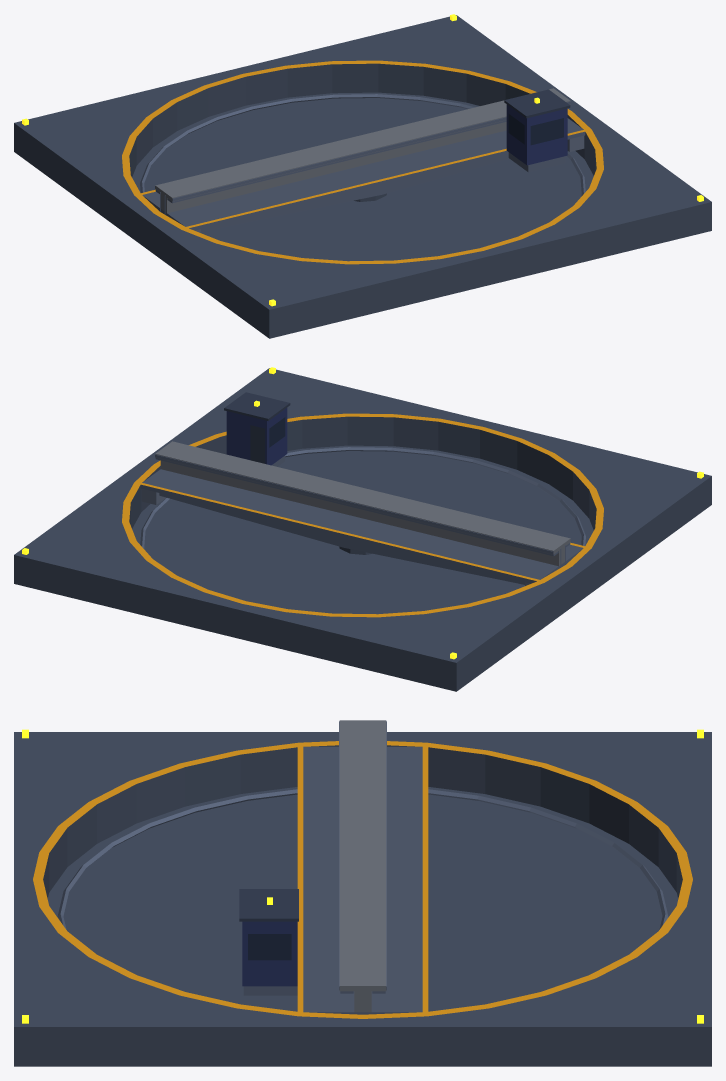
Rendered from rail_turntable.glb.
3 renders of one model, top to bottom at view 1: azimuth 30°, elevation 25°; view 2: azimuth 150°, elevation 25°; view 3: azimuth 270°, elevation 25°, orthographic. The views are drawn at different scales.
Parts seen in each view (by area): view 1: rim, bridge, guide_beam, cabin, trim, cabin_window; view 2: rim, bridge, guide_beam, cabin, trim; view 3: rim, bridge, guide_beam, cabin, trim, cabin_window.
Part boxes in pixels (x1,y1,x2,y2): rim: (14,15,711,338); bridge: (140,94,585,231); guide_beam: (155,88,570,213); cabin: (506,104,567,165); trim: (504,89,570,118); cabin_window: (508,114,563,145); rim: (14,368,711,691); bridge: (140,447,585,584); guide_beam: (155,441,570,566); cabin: (226,408,287,465); trim: (224,392,290,463); rim: (14,732,711,1066); bridge: (57,721,668,1014); guide_beam: (339,720,386,1012); cabin: (242,921,297,986); trim: (239,889,298,921); cabin_window: (248,934,291,960).
Size of the model in its own units: 24 by 4.32 by 24.
